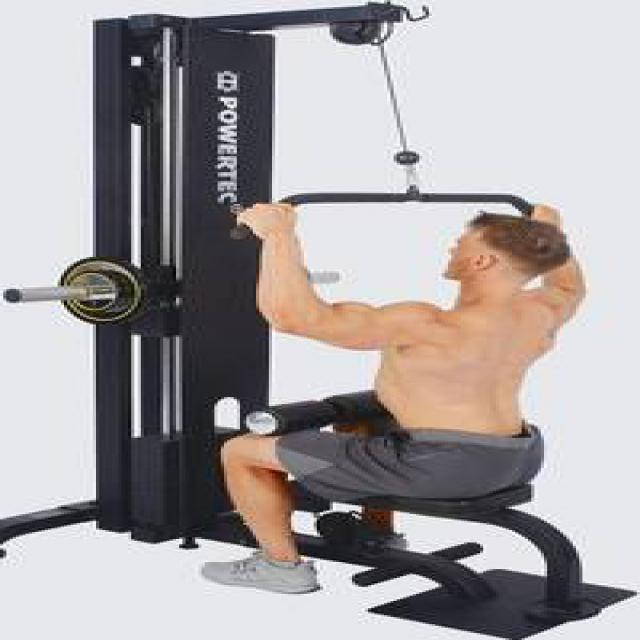Lat Machine: (9, 0, 636, 638)
